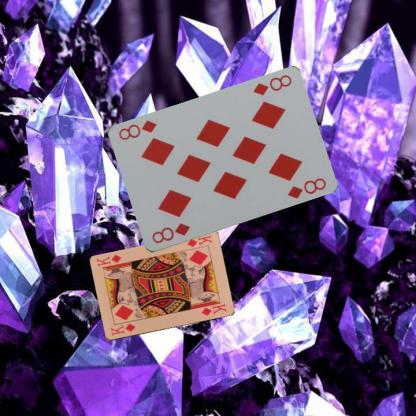8d: (250, 72, 293, 97), (149, 221, 191, 245)
Kd: (184, 232, 214, 249), (108, 321, 136, 337)
